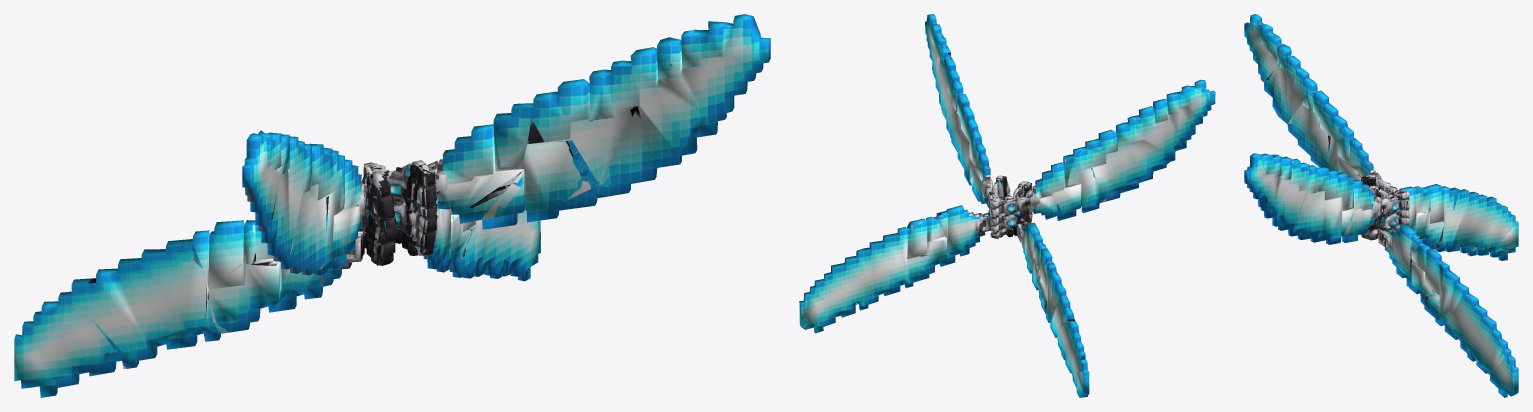
The model's file is kikoru_no4_wings.obj.
3 views of the same model, side by side, from view 1: azimuth 30°, elevation 25°; view 2: azimuth 150°, elevation 25°; view 3: azimuth 270°, elevation 25° (orthographic). The views are drawn at different scales.
Visible parts, largest first — view 1: kikoru_no4_wings; view 2: kikoru_no4_wings; view 3: kikoru_no4_wings.
Part boxes in pixels (x1,y1,x2,y2): kikoru_no4_wings: (14, 14, 770, 397); kikoru_no4_wings: (799, 14, 1215, 397); kikoru_no4_wings: (1244, 14, 1518, 397).
Bounding box in the file's own units: 1.57 × 1.19 × 1.21.
